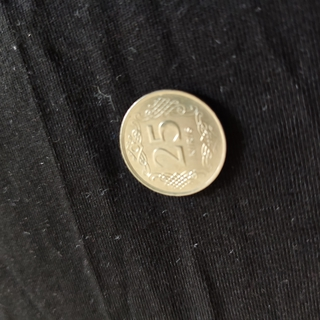25KURUS: (116, 87, 229, 197)
